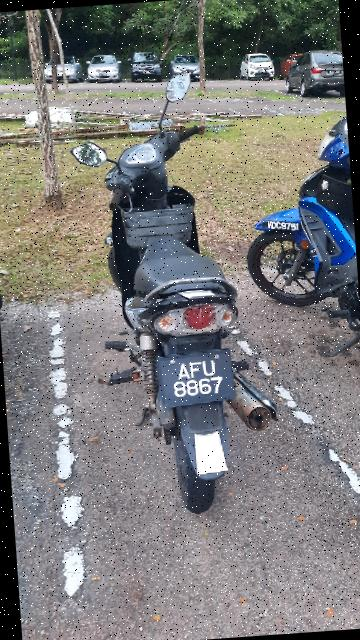License_Plate: (150, 339, 248, 414)
motorcycle: (52, 47, 303, 523)
